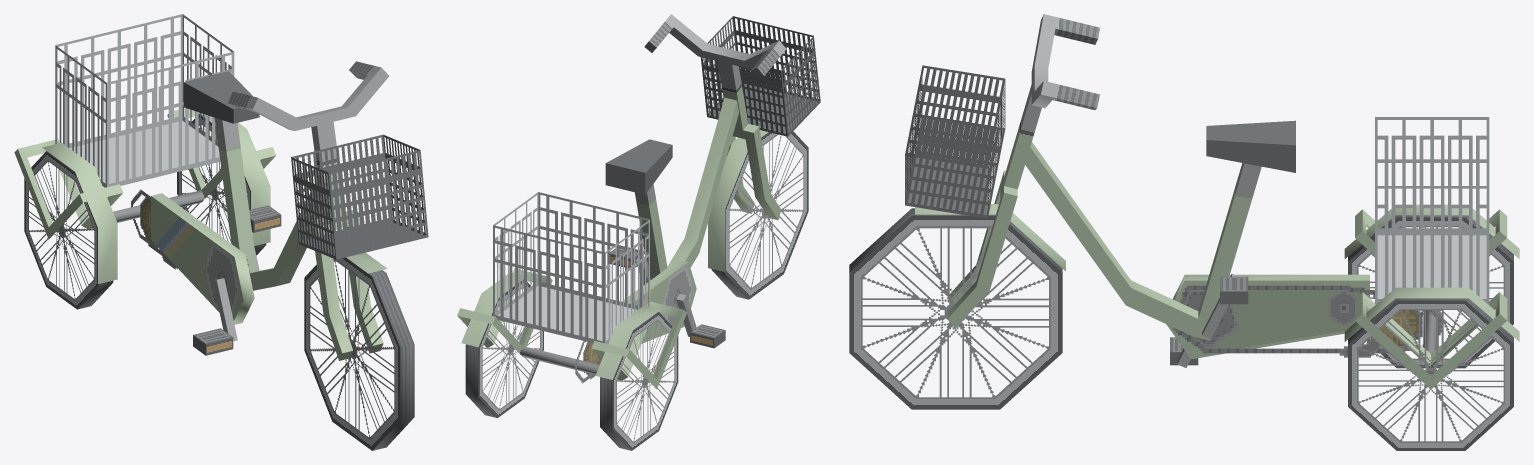
Rendered from 0147_Tricycle.glb.
3 renders of one model, left to right at view 1: azimuth 30°, elevation 25°; view 2: azimuth 150°, elevation 25°; view 3: azimuth 270°, elevation 25°, orthographic. The views are drawn at different scales.
Visible parts, largest first — view 1: part_0; view 2: part_0; view 3: part_0.
Part boxes in pixels (x1=…): part_0: x1=14, y1=14, x2=428, y2=450; part_0: x1=457, y1=14, x2=820, y2=450; part_0: x1=849, y1=14, x2=1519, y2=450.
Bounding box in the file's own units: 0.7581 × 1.21 × 2.06.
1 material, 1 textured.
